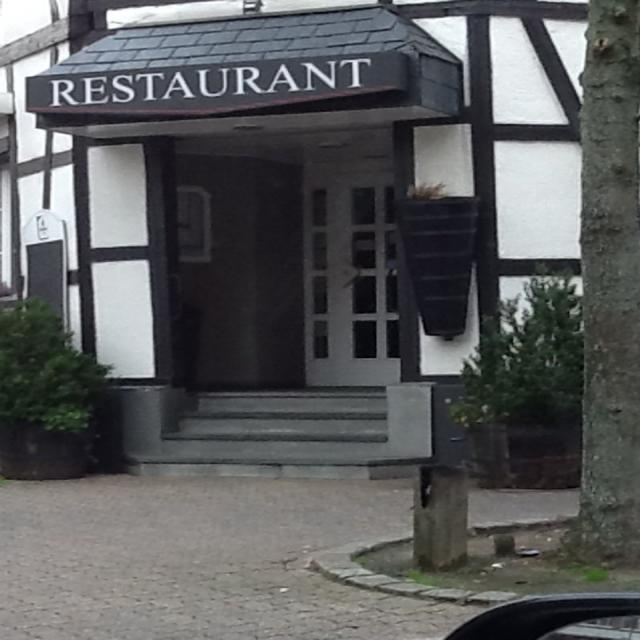AVOID: (122, 394, 425, 479)
